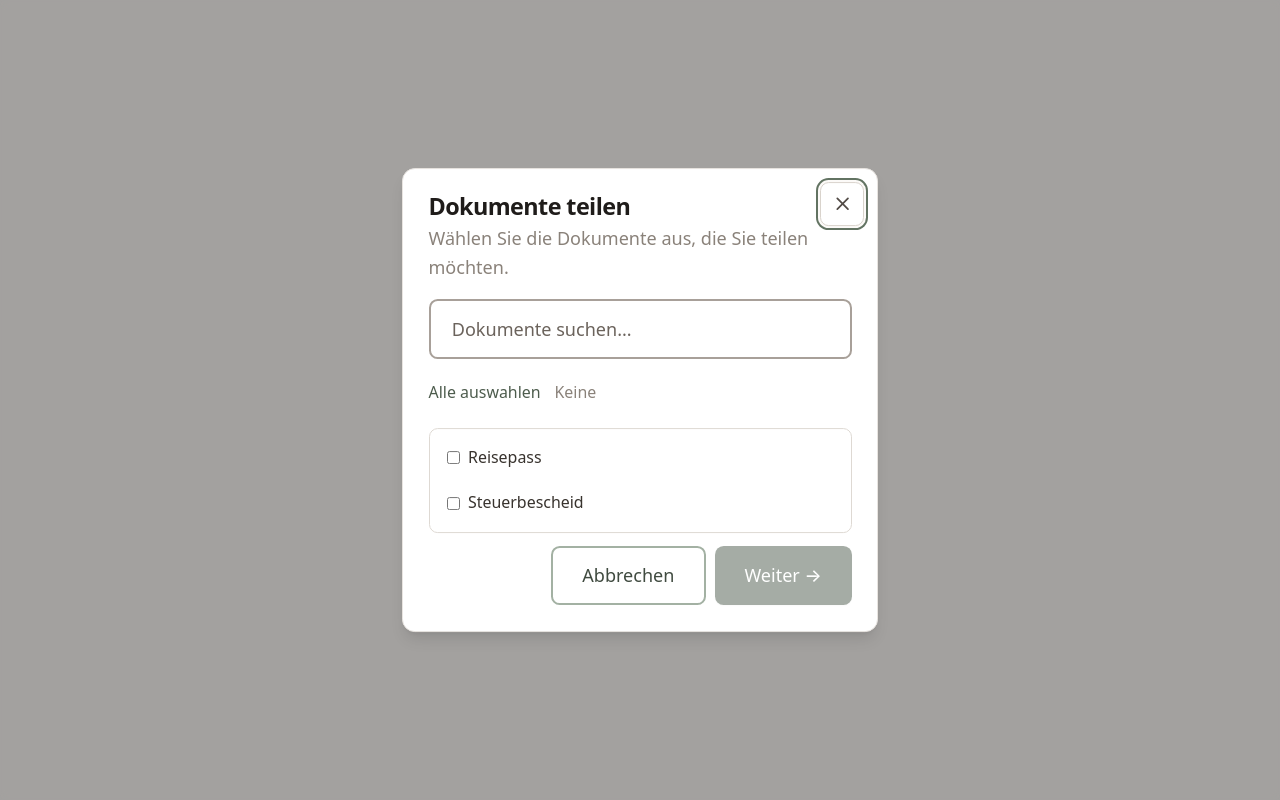
Test case: BulkShareDialog › "← Zuruck" navigates back to DocumentPicker
Click the checkbox labelled "Reisepass" at (453, 458), box [446,452,460,465]
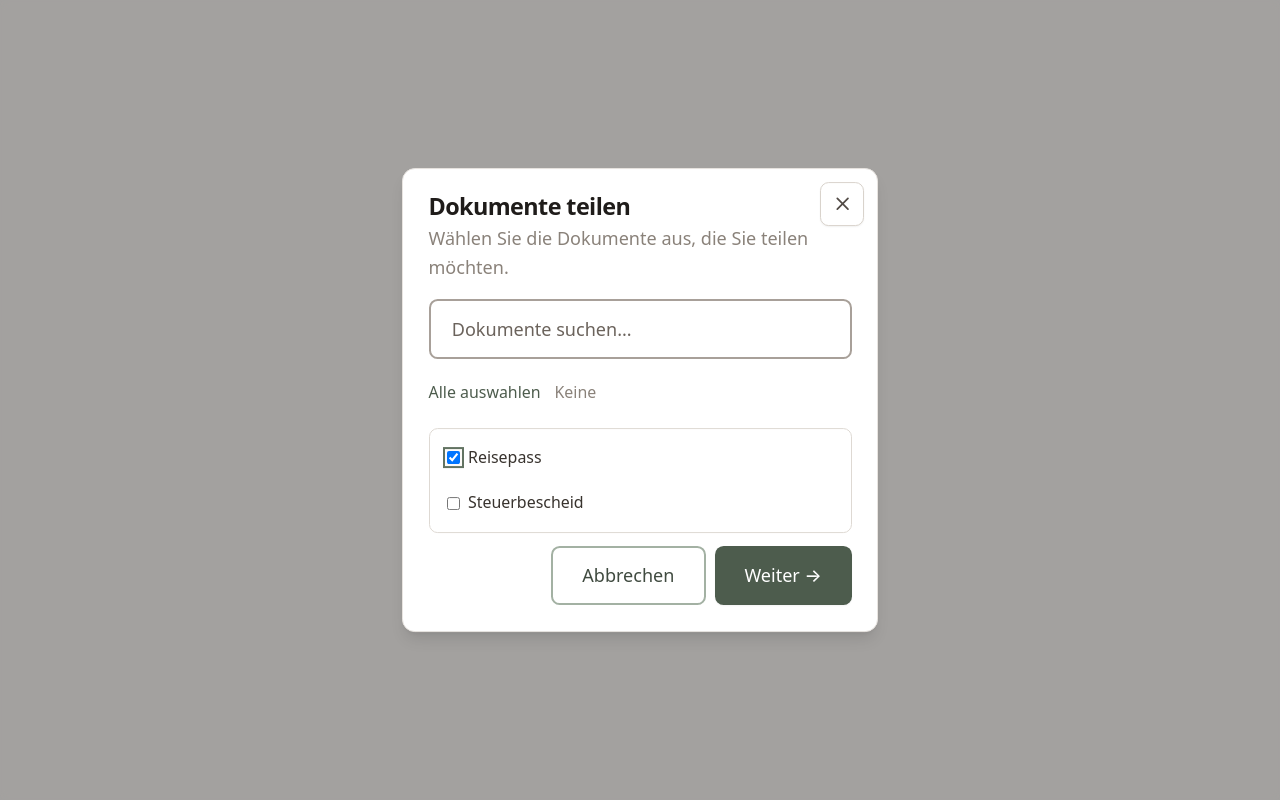
Click the button "Weiter →" at (783, 576), box [715,546,852,605]
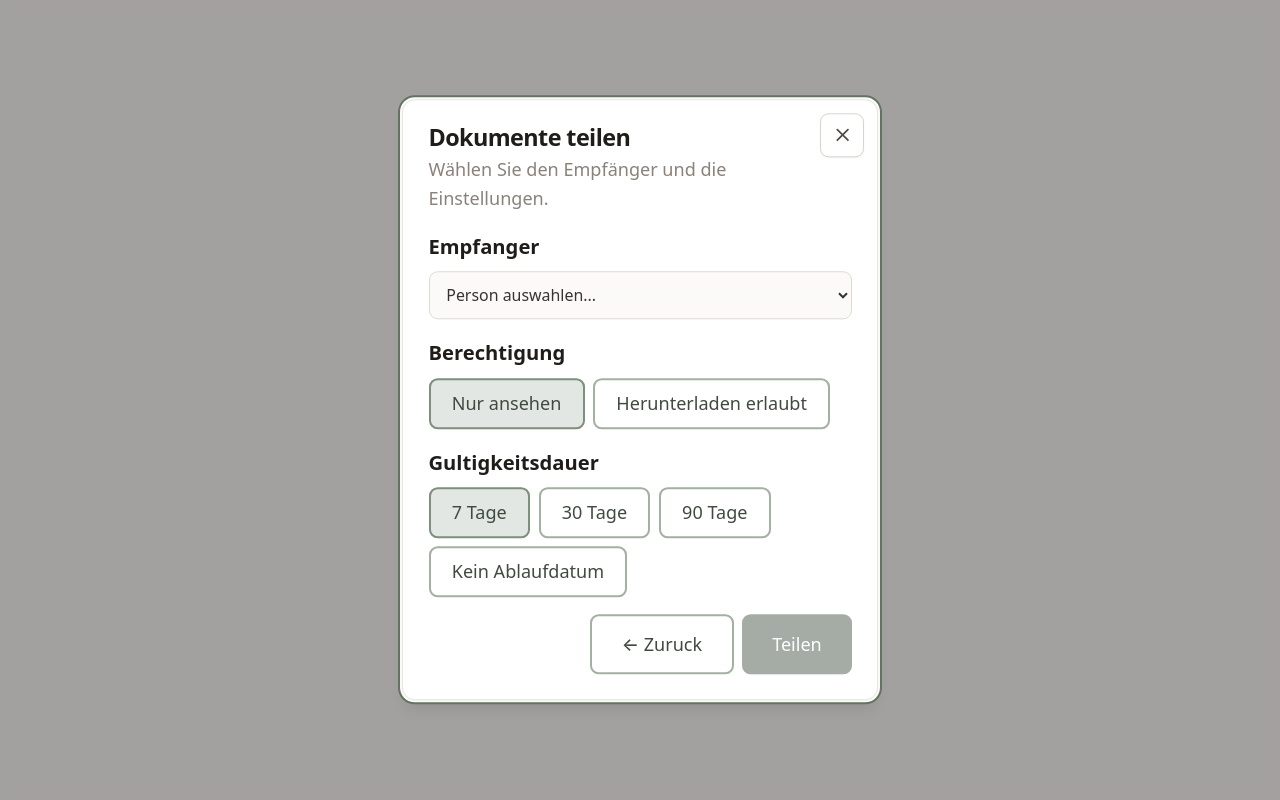
Click the button "← Zuruck" at (662, 644), box [590,615,734,674]
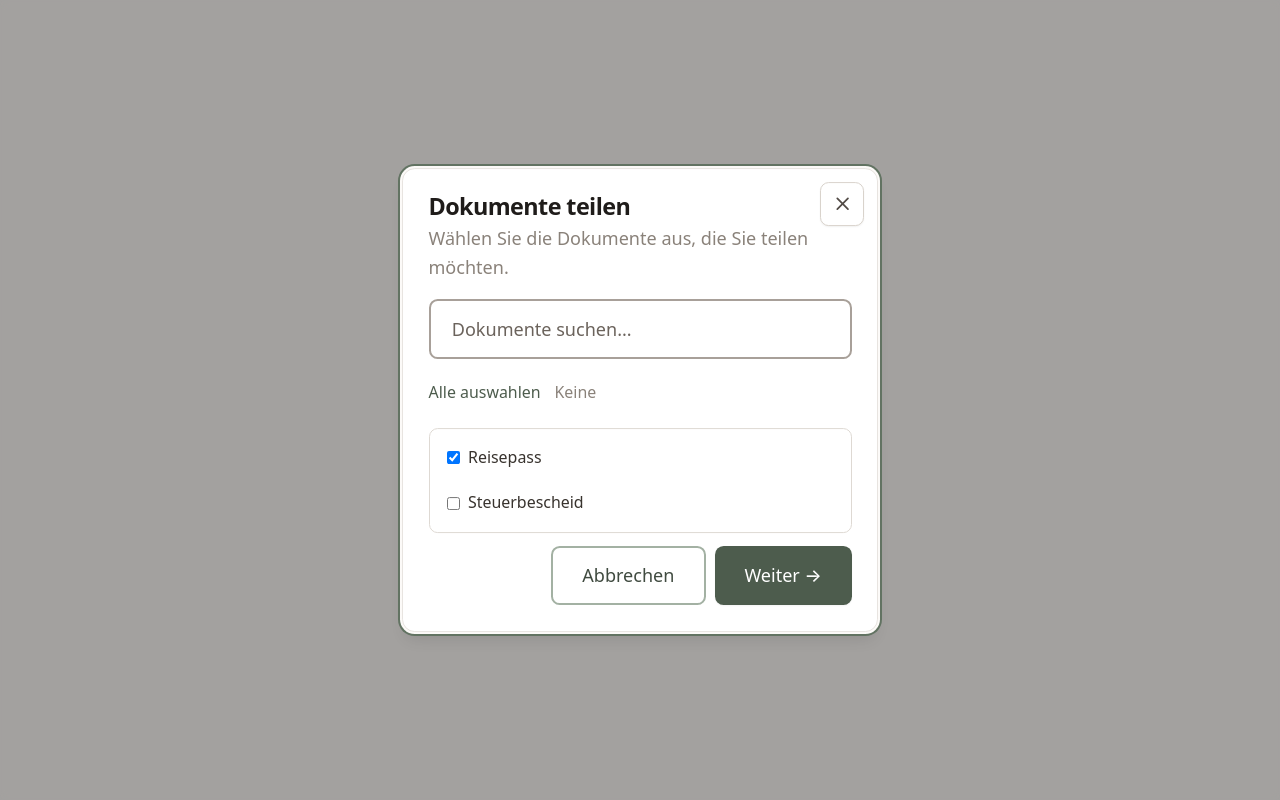
Expected: the text "Reisepass" is shown, [468,446,542,470]
